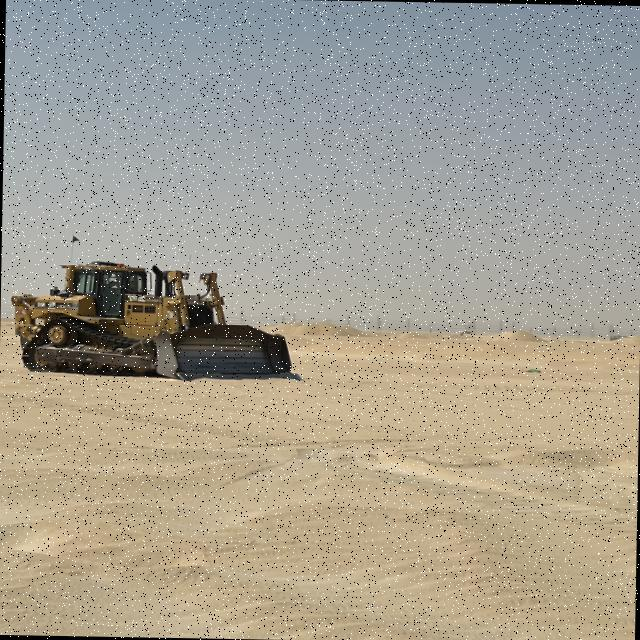Bulldozer: (3, 232, 302, 386)
